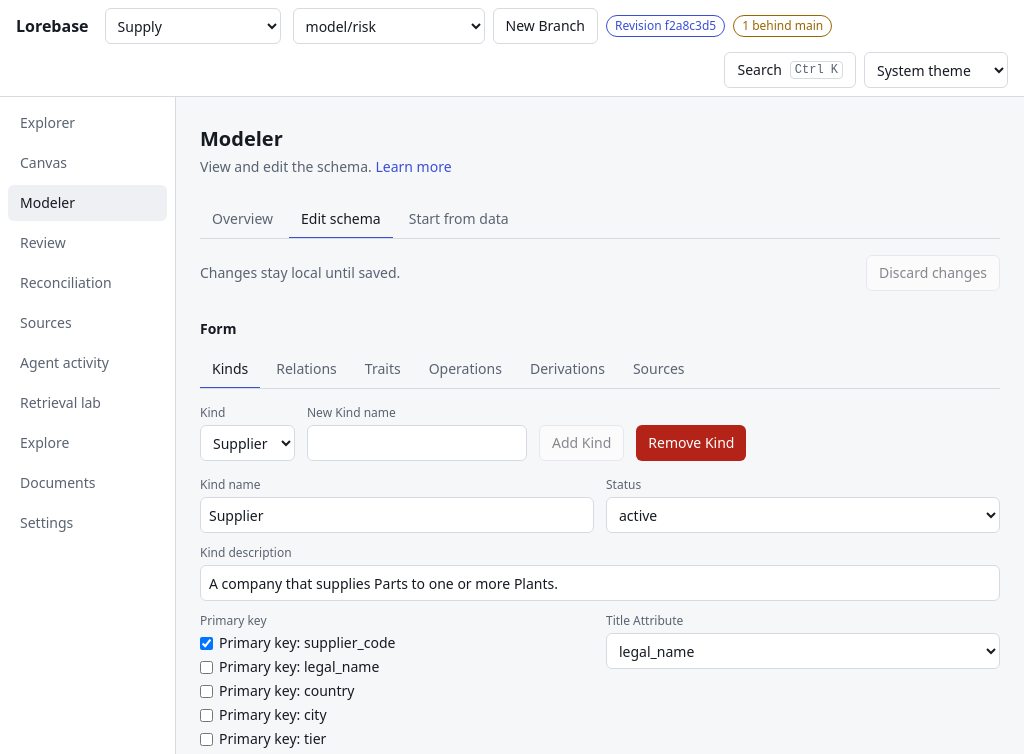
Test: Modeler schema editor: two synchronized views › dry runs a saved Operation on the Branch
Click the tab "Operations" at [465, 370], box [417, 351, 514, 389]
(page scrolled)
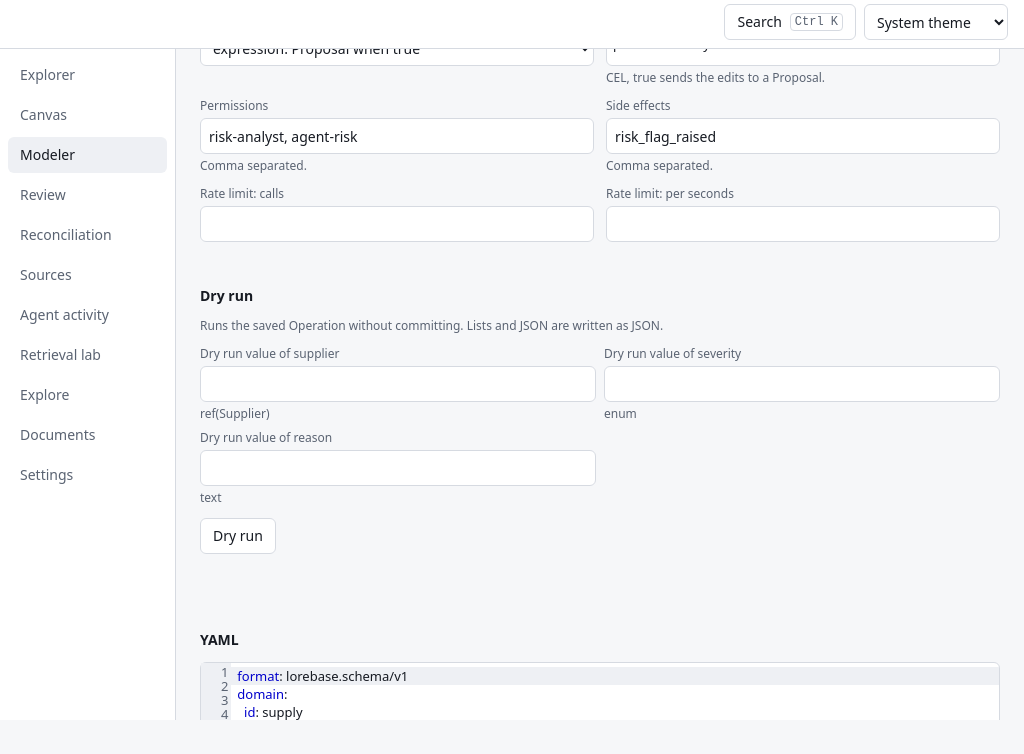
Type "S-1001" into the field labelled "Dry run value of supplier" at [398, 384], box [200, 366, 596, 402]
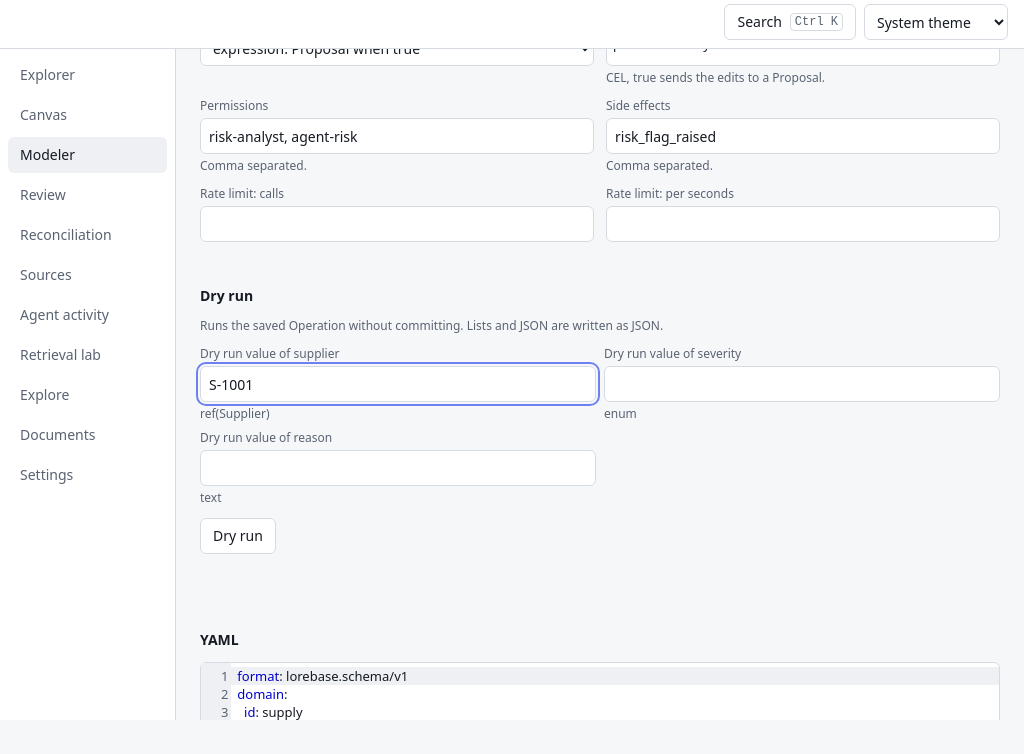
Click the button "Dry run" at [238, 536], box [200, 518, 276, 554]
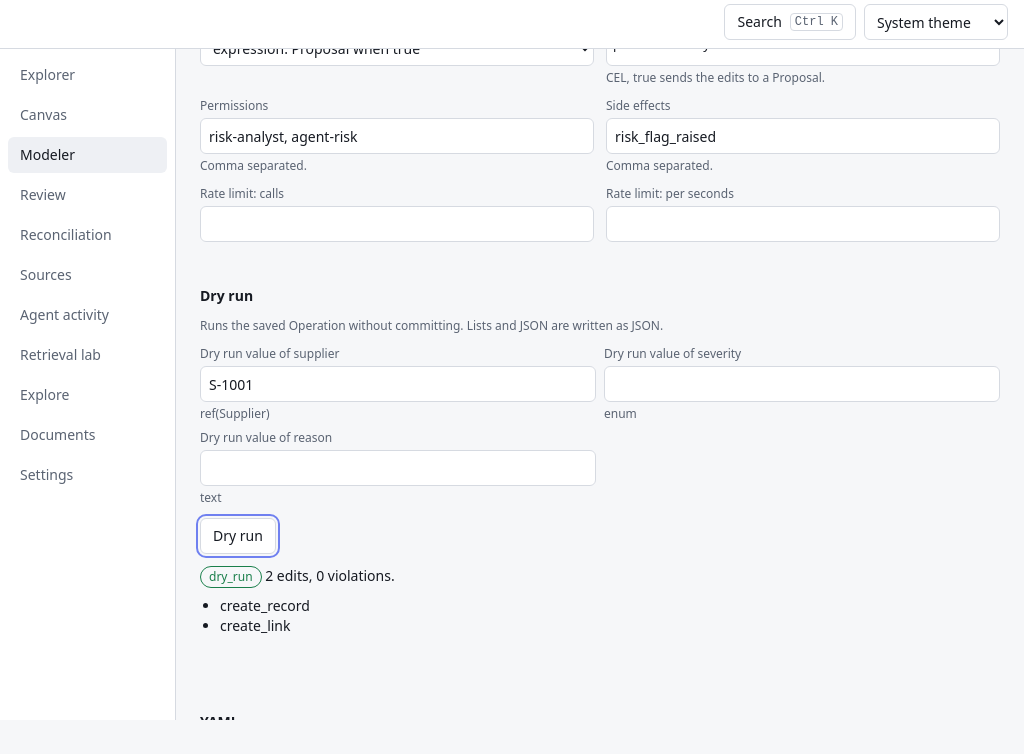
Result: the text "dry_run 2 edits, 0 violations." is shown at [200, 566, 395, 588]
